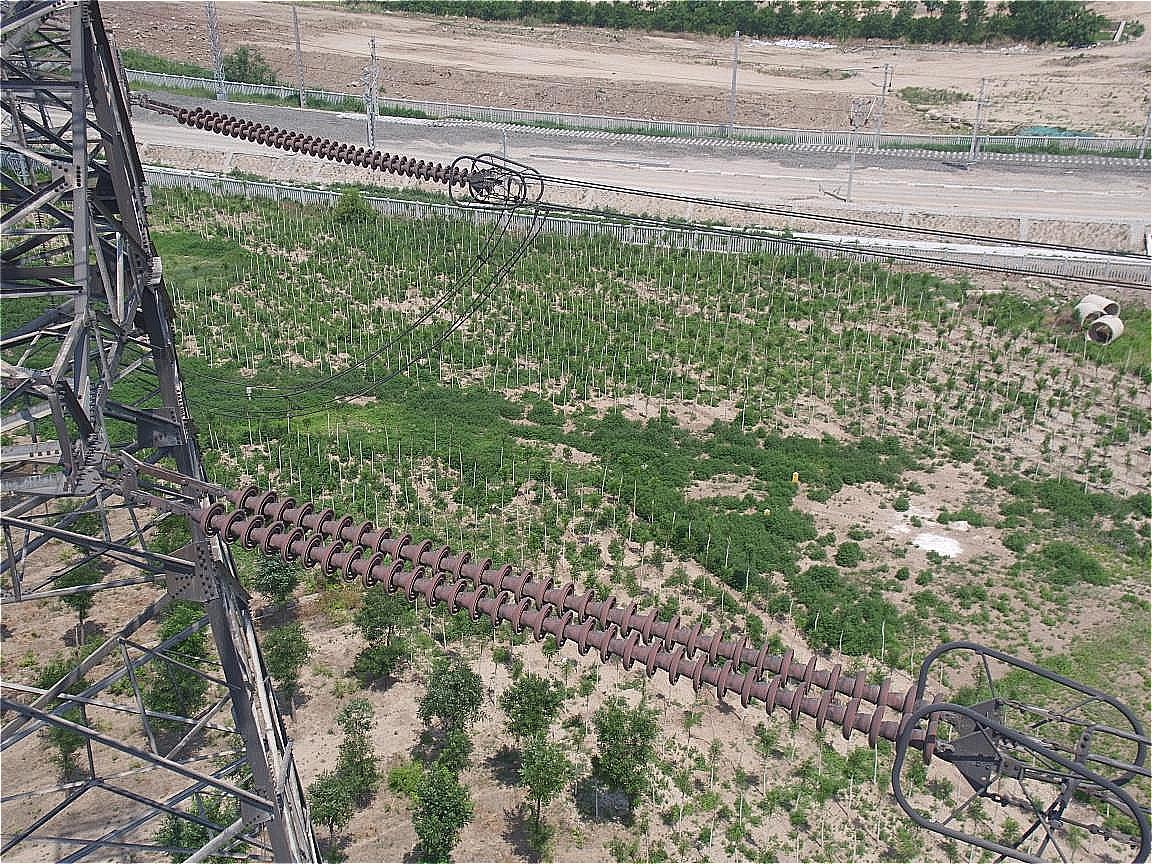insultor1: (152, 470, 950, 750)
